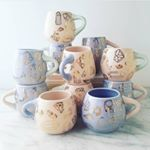cups: (77, 86, 142, 137), (20, 88, 79, 137), (8, 47, 62, 85), (99, 45, 149, 82), (57, 44, 98, 87), (43, 8, 89, 44)
